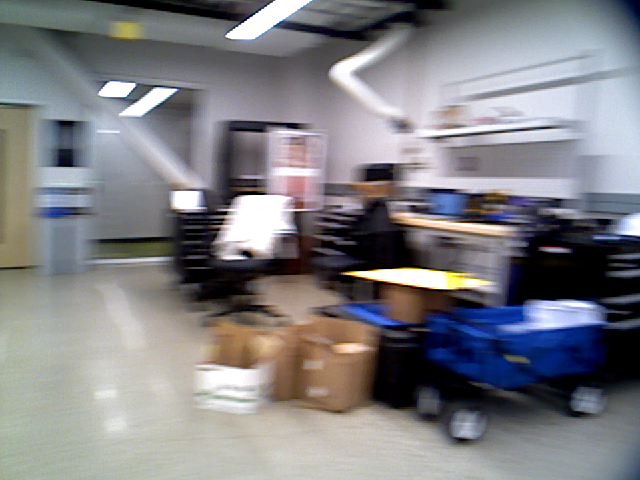painting1: (40, 117, 87, 169)
